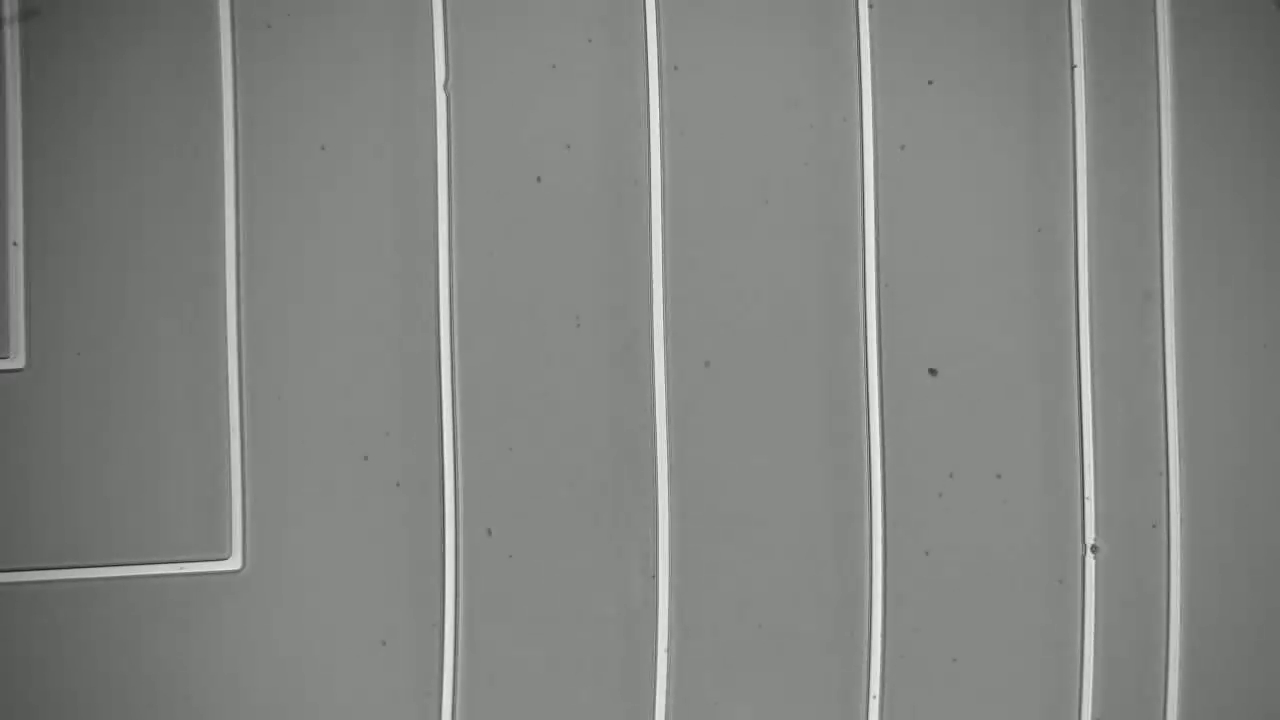stains_enbedded: (1073, 536, 1103, 561)
